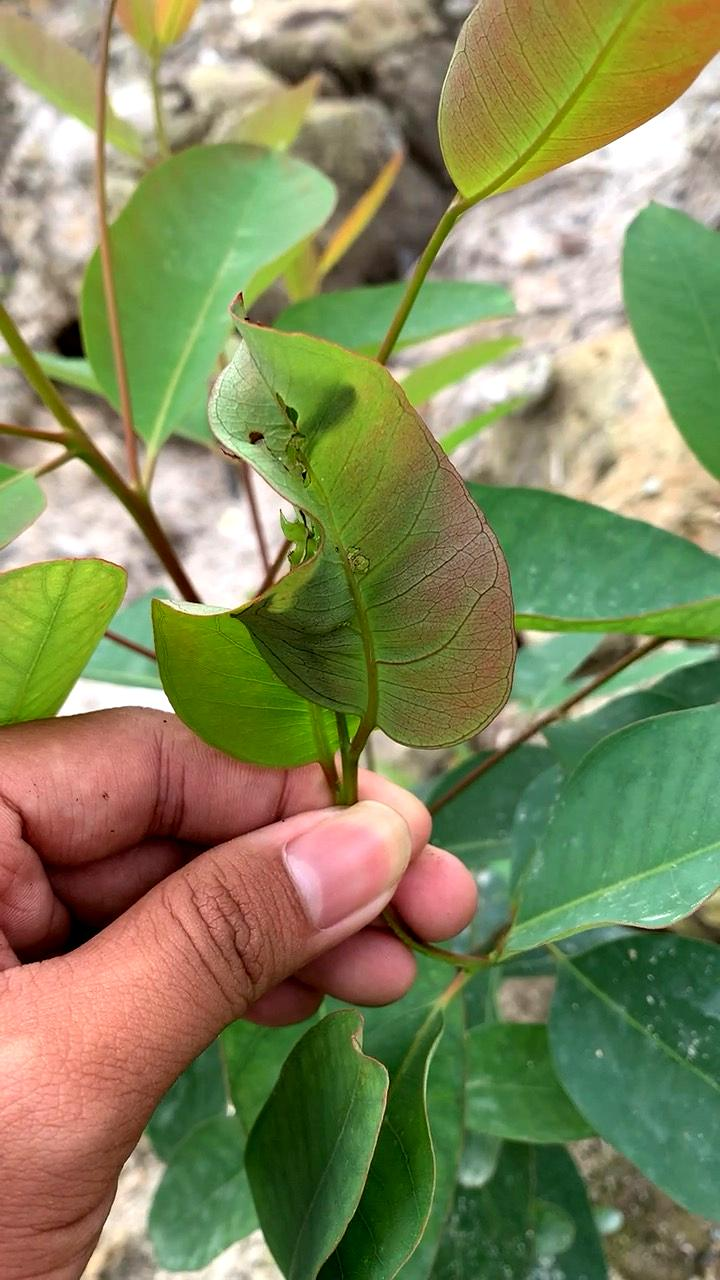Leaf Roller - Leaf: (133, 270, 553, 786)
